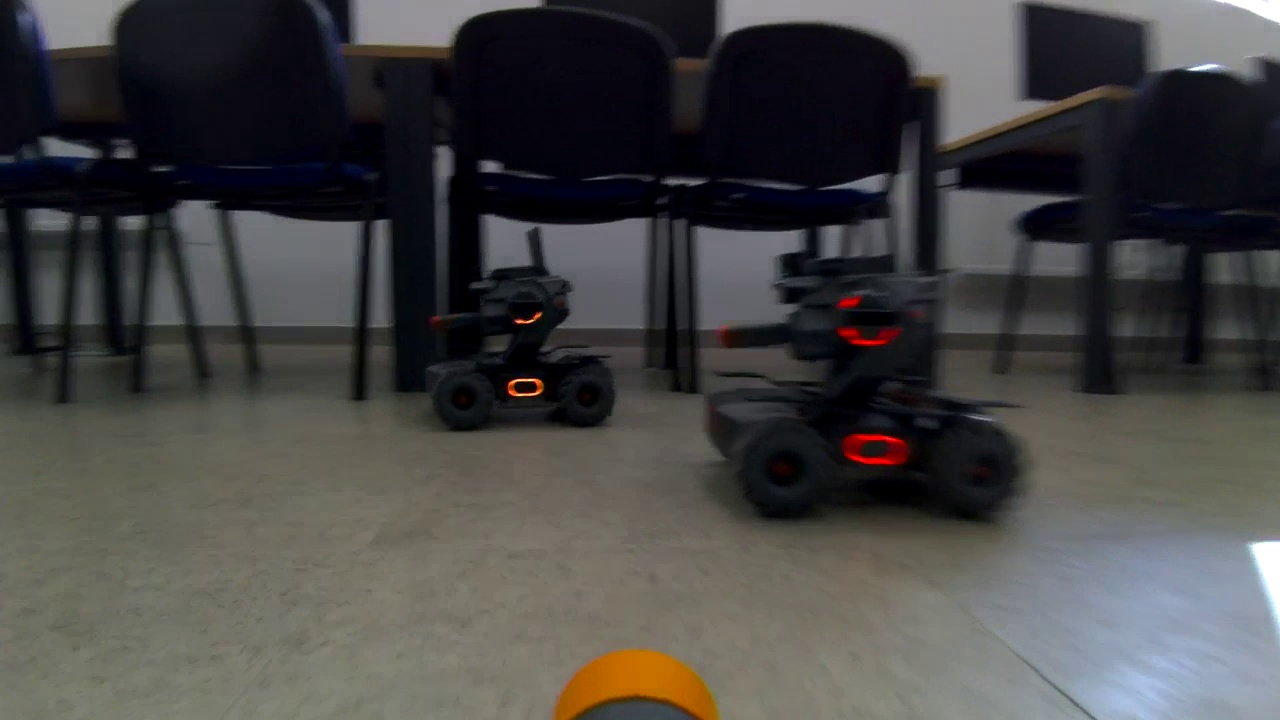robot: (706, 264, 1022, 518), (425, 272, 619, 422)
